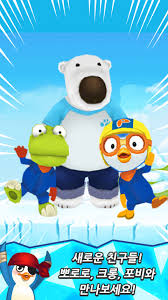Pororo: (98, 118, 166, 217)
